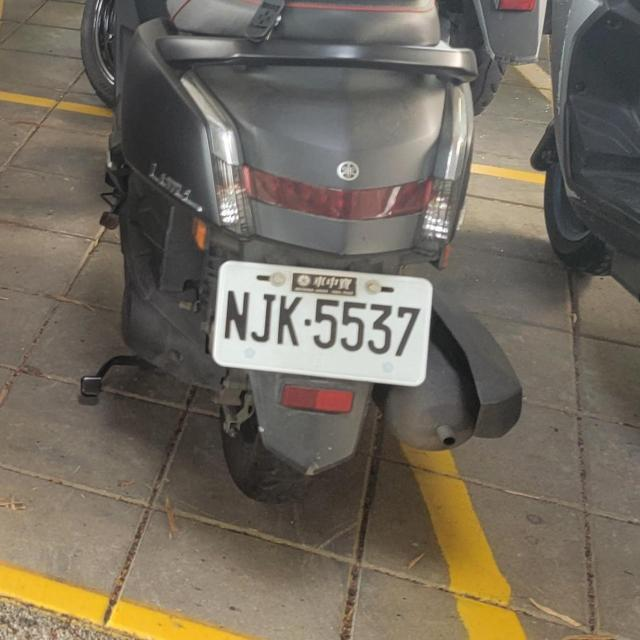W: (206, 254, 434, 390)
